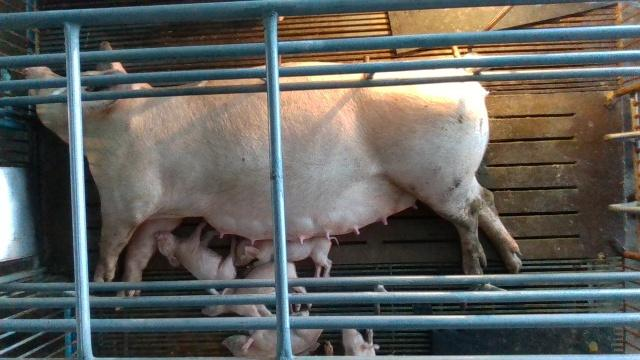piglet: (202, 260, 311, 316), (220, 314, 322, 359), (232, 235, 339, 277), (157, 224, 236, 280), (344, 329, 380, 357)
sow-sleep-lactate: (21, 45, 523, 309)
